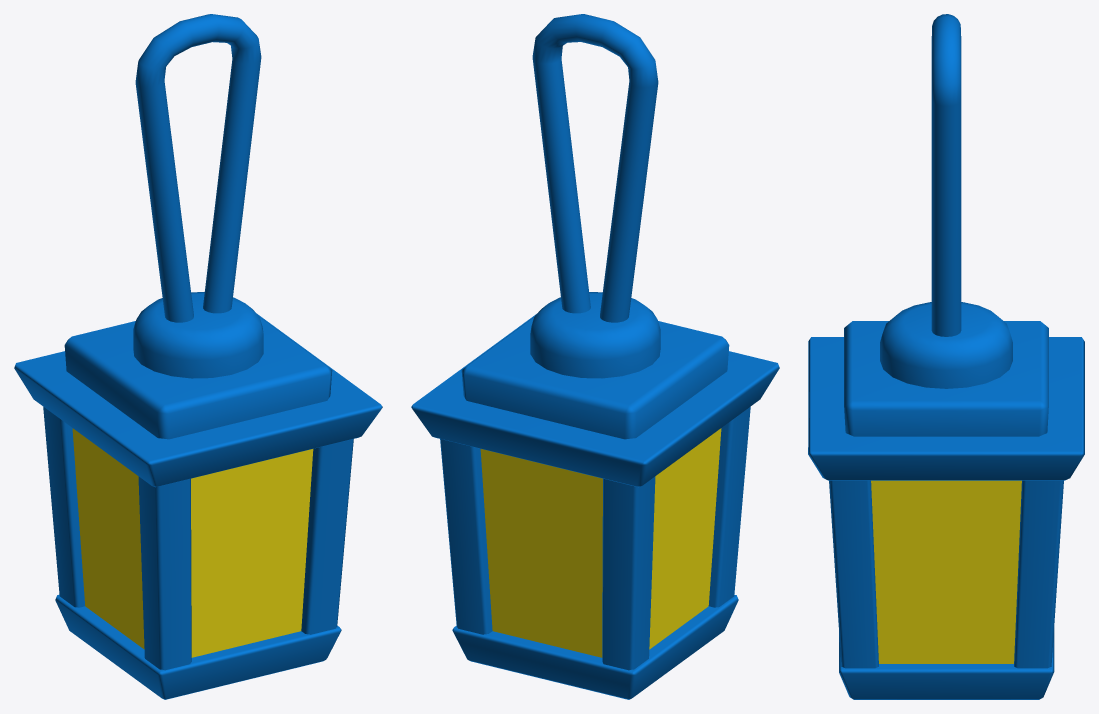
The model's file is Farm_14_Lamp_1.glb.
The picture shows the model from 3 angles, left to right: view 1: azimuth 30°, elevation 25°; view 2: azimuth 150°, elevation 25°; view 3: azimuth 270°, elevation 25°; orthographic projection.
Parts seen in each view (by area): view 1: Farm_14_Lamp_1; view 2: Farm_14_Lamp_1; view 3: Farm_14_Lamp_1.
Boxes of the visible parts, bbox=[...] form: Farm_14_Lamp_1: bbox=[14, 14, 382, 699]; Farm_14_Lamp_1: bbox=[411, 14, 779, 699]; Farm_14_Lamp_1: bbox=[808, 14, 1084, 699].
Bounding box in the file's own units: 0.3521 × 0.8938 × 0.3521.
1 material, 1 textured.
